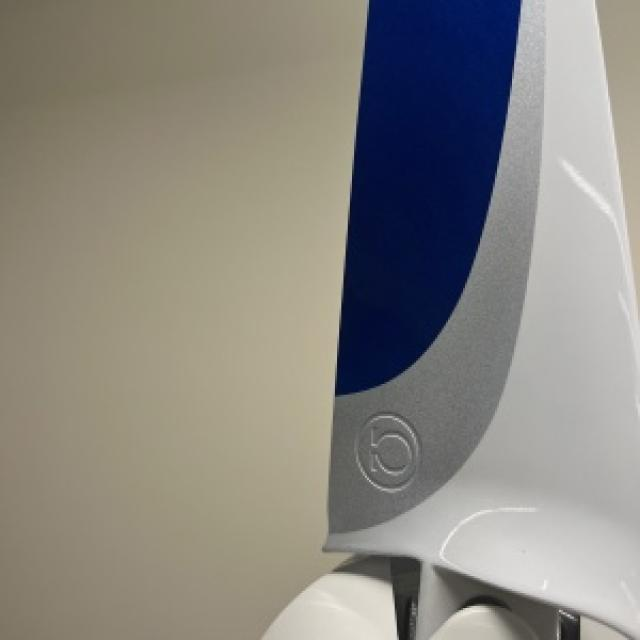healthy: (260, 0, 638, 638)
